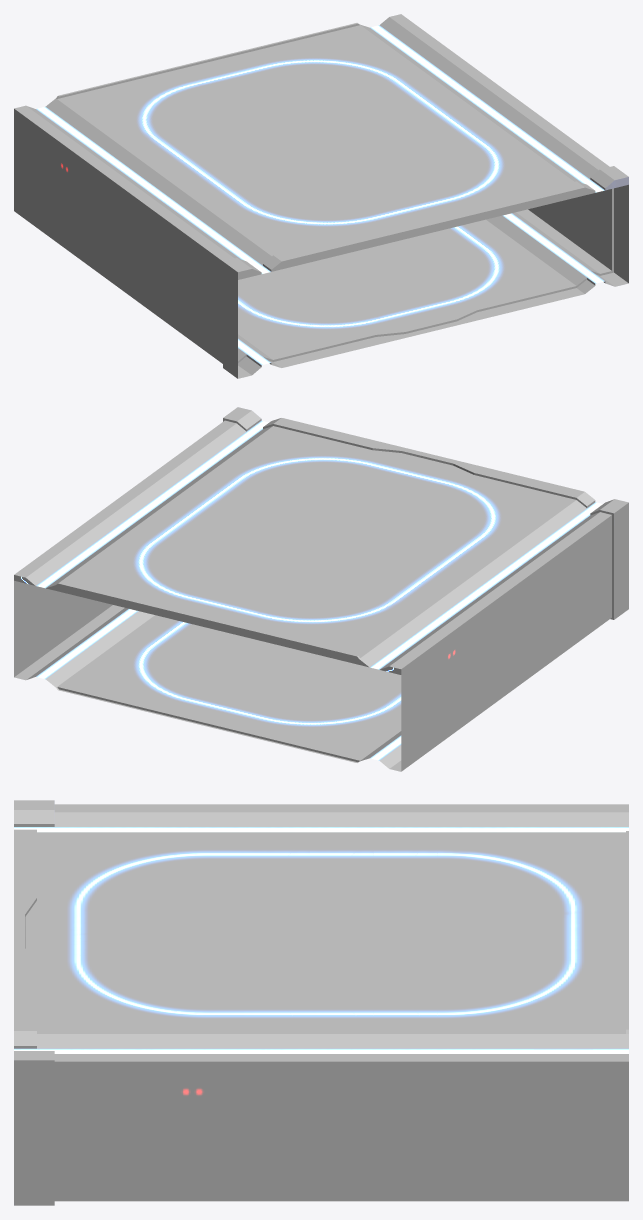
File: Straight-2S_NoCaps.fbx
The picture shows the model from 3 angles, top to bottom: view 1: azimuth 30°, elevation 25°; view 2: azimuth 150°, elevation 25°; view 3: azimuth 270°, elevation 25°; orthographic projection. The views are drawn at different scales.
Visible parts, largest first — view 1: Straight-2S_NoCaps; view 2: Straight-2S_NoCaps; view 3: Straight-2S_NoCaps.
Boxes of the visible parts, bbox=[...] form: Straight-2S_NoCaps: bbox=[14, 14, 628, 378]; Straight-2S_NoCaps: bbox=[14, 407, 628, 771]; Straight-2S_NoCaps: bbox=[14, 800, 628, 1205].
Bounding box in the file's own units: 2.5 × 0.6517 × 2.5.
